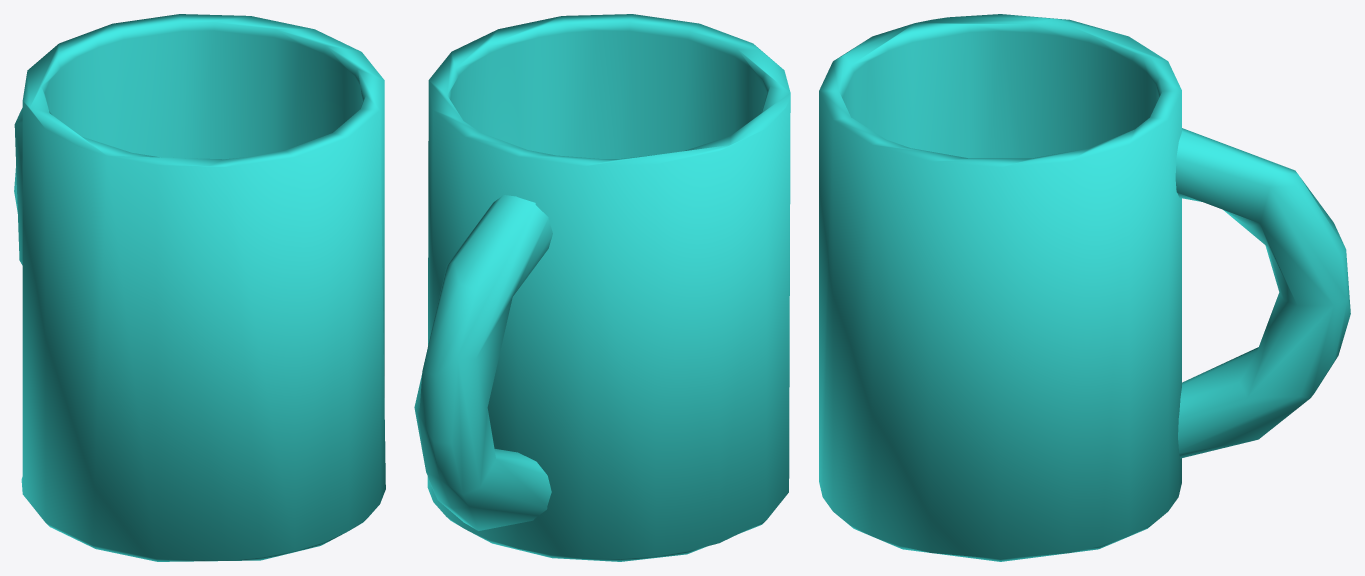
The model's file is Tasse.fbx.
3 views of the same model, side by side, from view 1: azimuth 30°, elevation 25°; view 2: azimuth 150°, elevation 25°; view 3: azimuth 270°, elevation 25° (orthographic).
Visible parts, largest first — view 1: Tasse_LOD0, Griff_LOD0; view 2: Tasse_LOD0, Griff_LOD0; view 3: Tasse_LOD0, Griff_LOD0.
Part boxes in pixels (x1,y1,x2,y2): Tasse_LOD0: (21,14,385,561); Griff_LOD0: (14,108,22,265); Tasse_LOD0: (427,14,790,561); Griff_LOD0: (414,195,552,530); Tasse_LOD0: (819,14,1181,561); Griff_LOD0: (1175,128,1350,458).
Size of what is drawn, in the model's own units: 0.0745 by 0.0898 by 0.1092.
